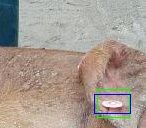text: (97, 89, 129, 117)
